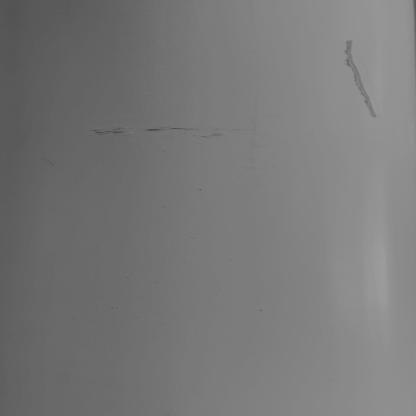sunshang: (338, 39, 386, 118), (84, 124, 227, 141)
